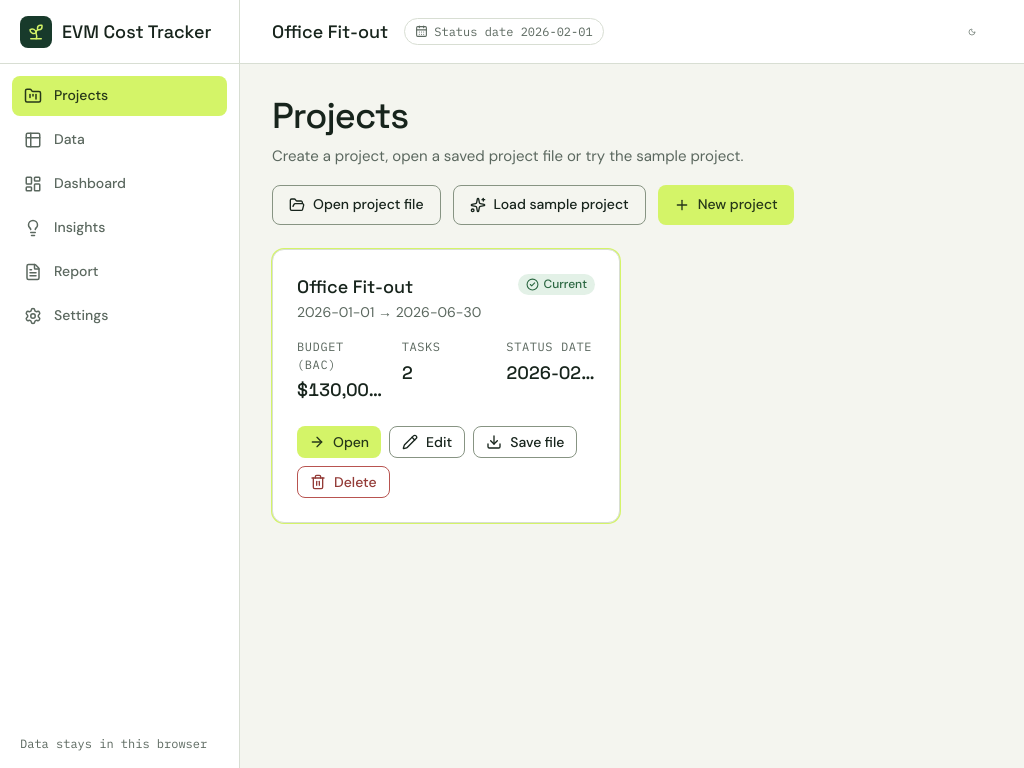
it: Projects page (FR-01, FR-09) › CT-PRJ-03 delete asks for confirmation and can be undone
The width and height of the screenshot is (1024, 768).
Expected: the text with test id "current-project" reads "Office Fit-out", [272,20,388,43]
Click the button "Delete" at (343, 482), box [297,466,390,498]
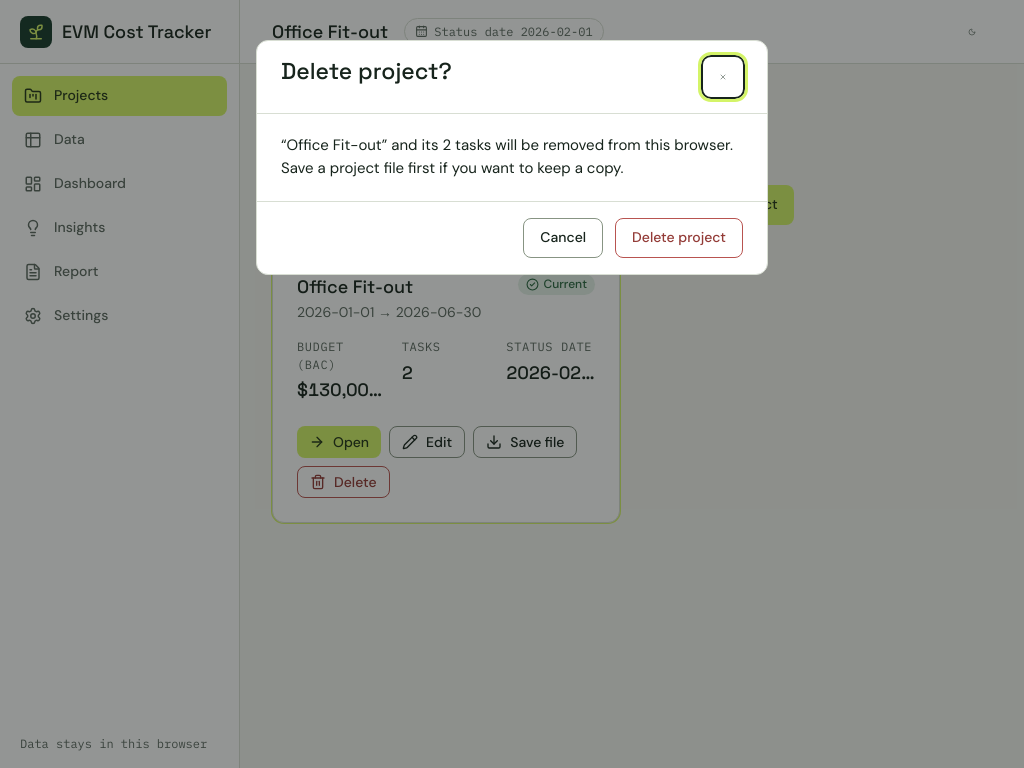
Click the button "Cancel" at (563, 238), box [523,218,603,258]
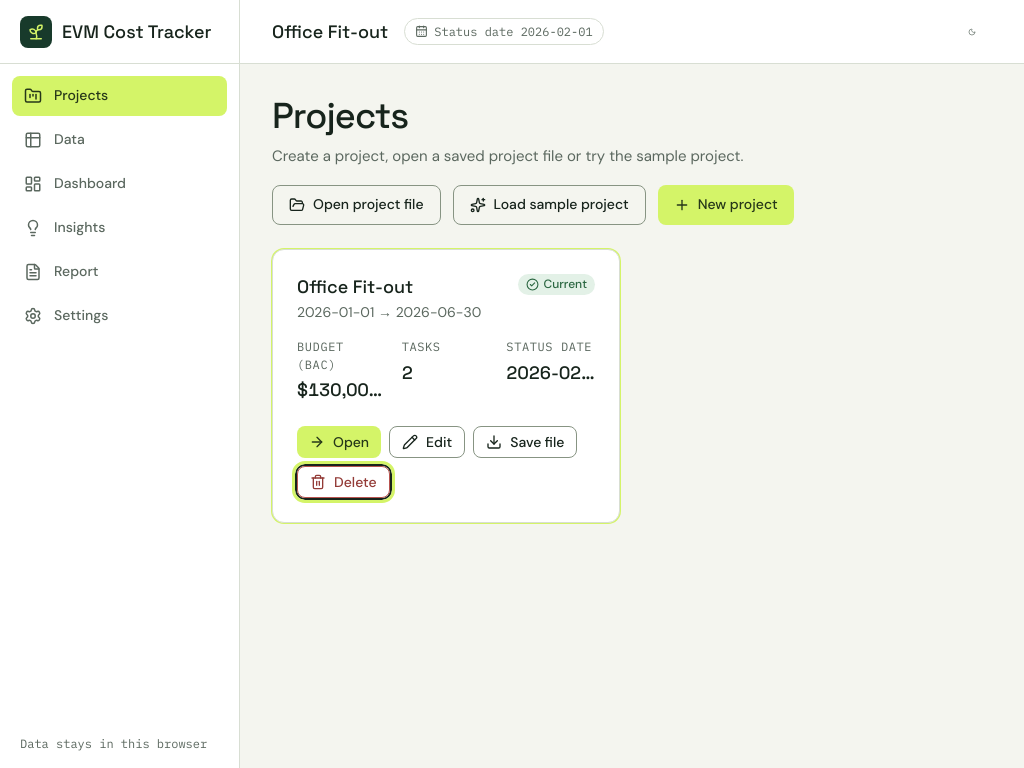
Expected: the element "Office Fit-out" is shown, [272,249,620,523]
Click the button "Delete" at (343, 482), box [297,466,390,498]
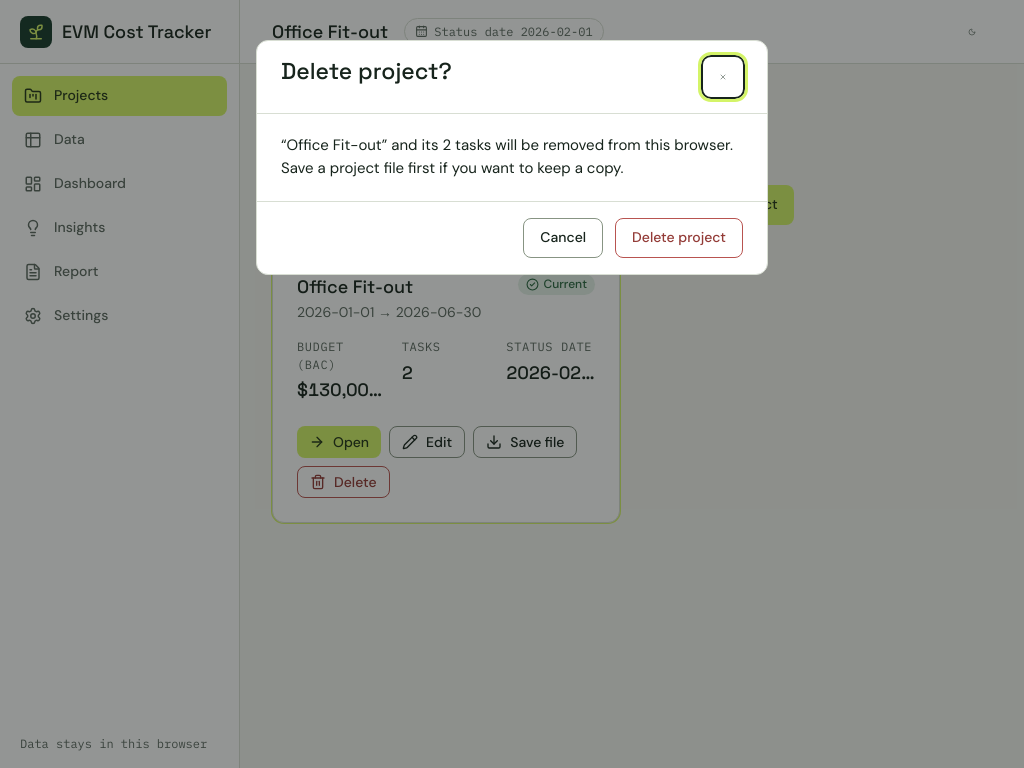
Click the button "Delete project" at (679, 238), box [615,218,743,258]
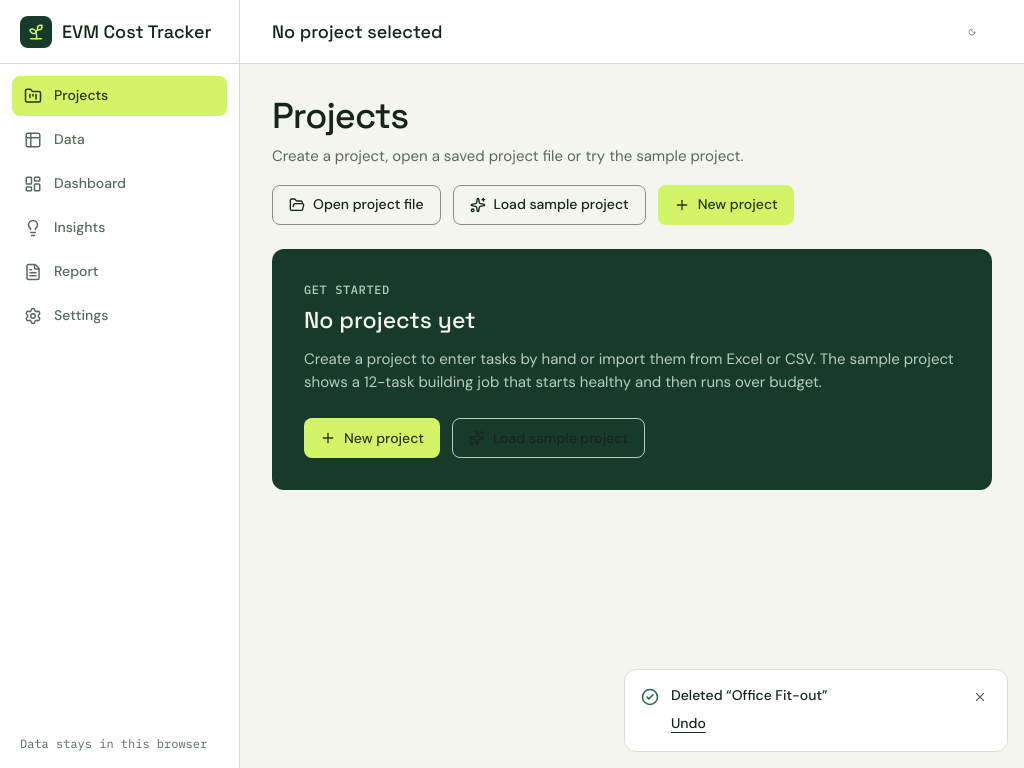
Click the button "Undo" at (688, 724), box [671,714,706,733]
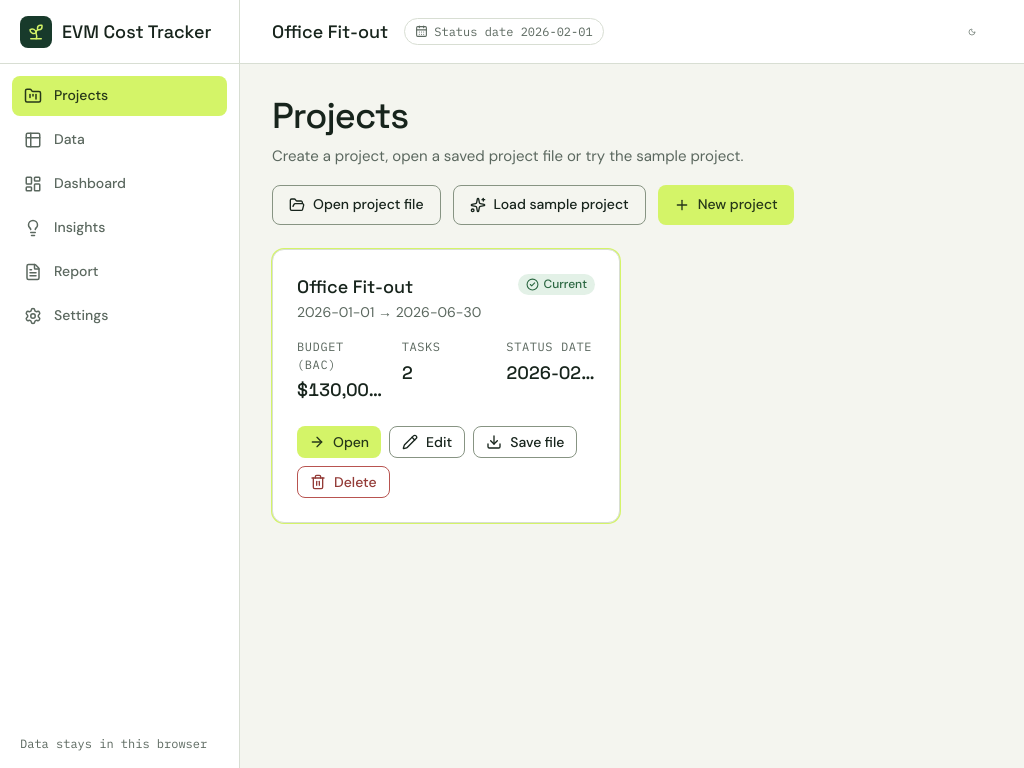
Result: the element "Office Fit-out" is shown at [272,249,620,523]
